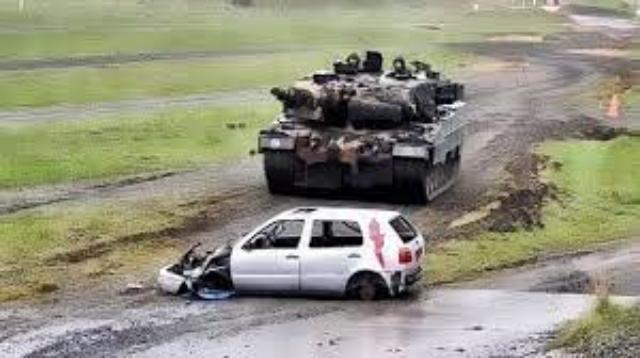tank: (264, 71, 464, 191)
